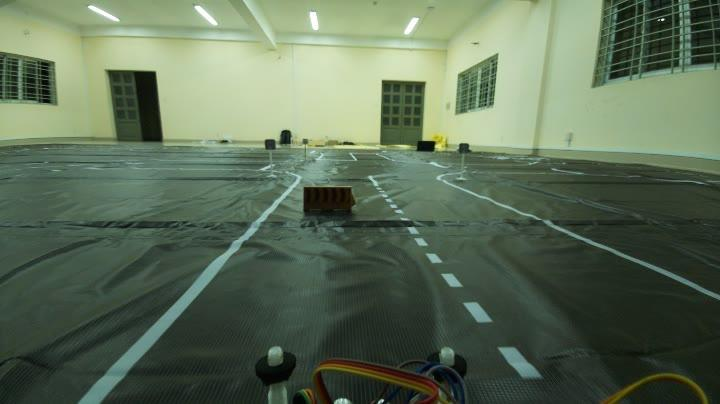roadblock: (302, 183, 360, 221)
